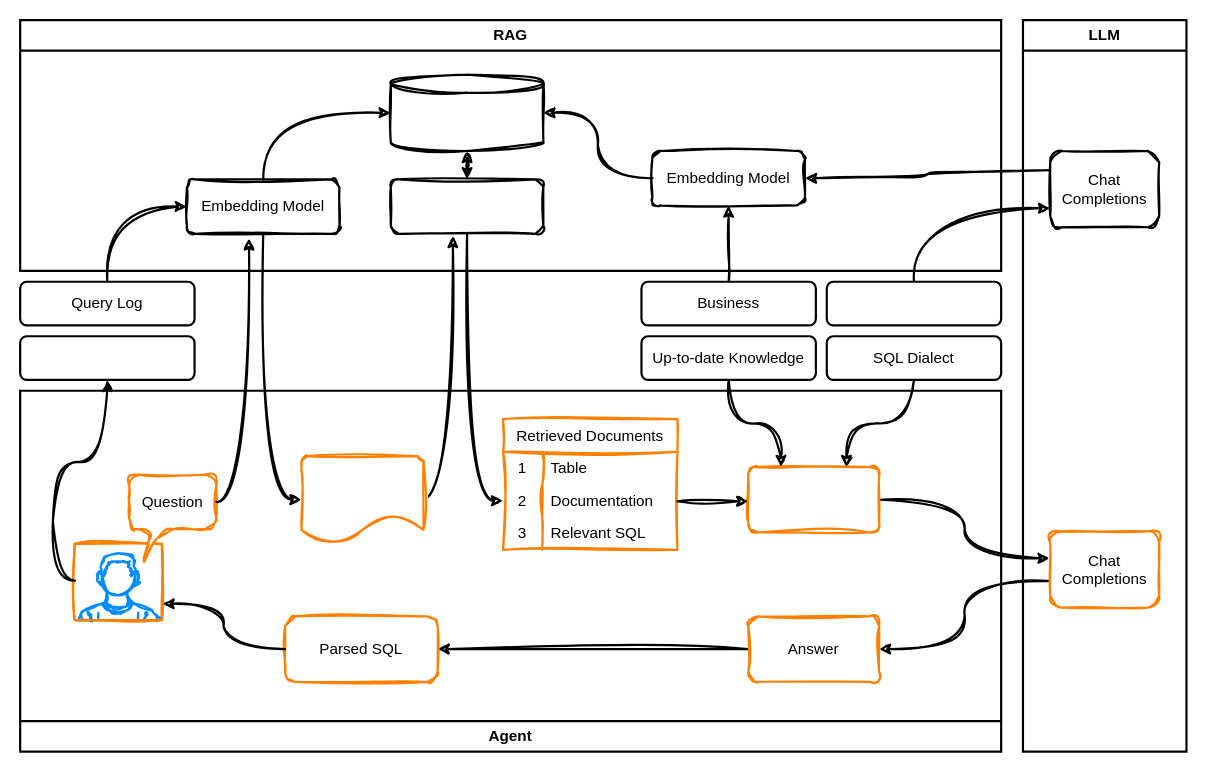
Image size: 1206x771. Some labels were removed from this diagram. Here are the shapes that lost their labels. From the top down, the centre of each, then its label:
At (466,112): "Vector Store".
At (466,206): "Similarity Search".
At (913,303): "Table Metadata".
At (107,357): "User's Feedback".
At (362,499): "Embedded Vector".
At (813,499): "Prompt".
